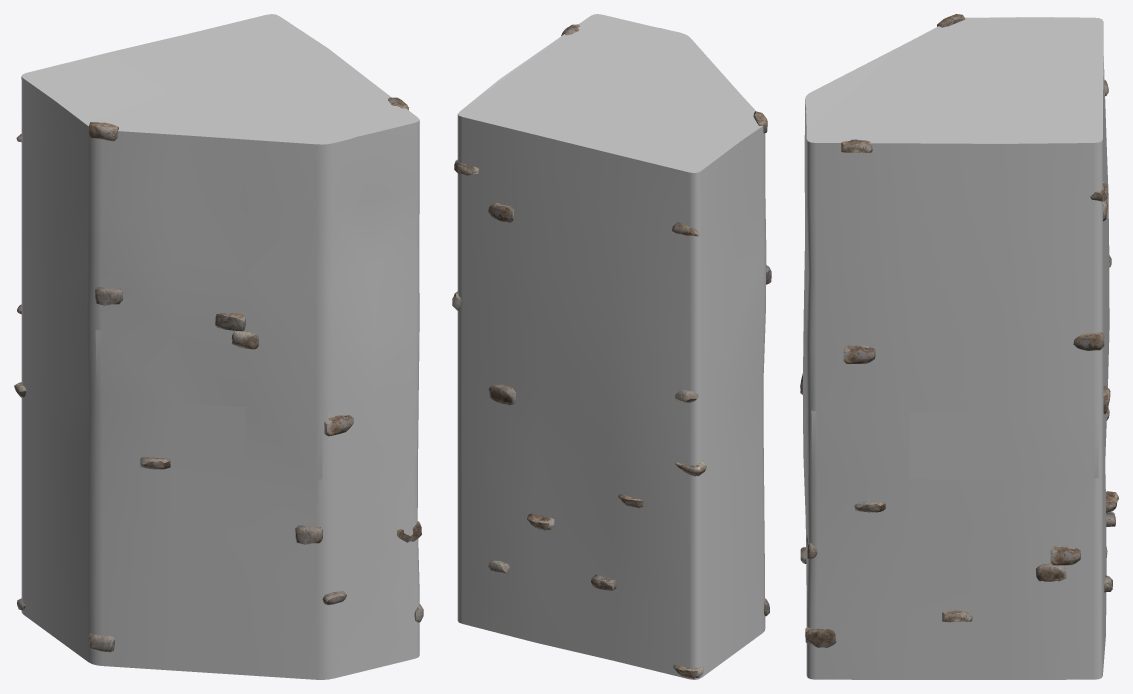
The model's file is SM_EntranceLargePillar02.FBX.
3 renders of one model, left to right at view 1: azimuth 30°, elevation 25°; view 2: azimuth 150°, elevation 25°; view 3: azimuth 270°, elevation 25°, orthographic. The views are drawn at different scales.
Visible parts, largest first — view 1: SM_EntranceLargePillar02; view 2: SM_EntranceLargePillar02; view 3: SM_EntranceLargePillar02.
Part boxes in pixels (x1,y1,x2,y2): SM_EntranceLargePillar02: (14,14,423,679); SM_EntranceLargePillar02: (452,14,771,679); SM_EntranceLargePillar02: (800,14,1118,679).
Bounding box in the file's own units: 1048 × 1077 × 2016.
